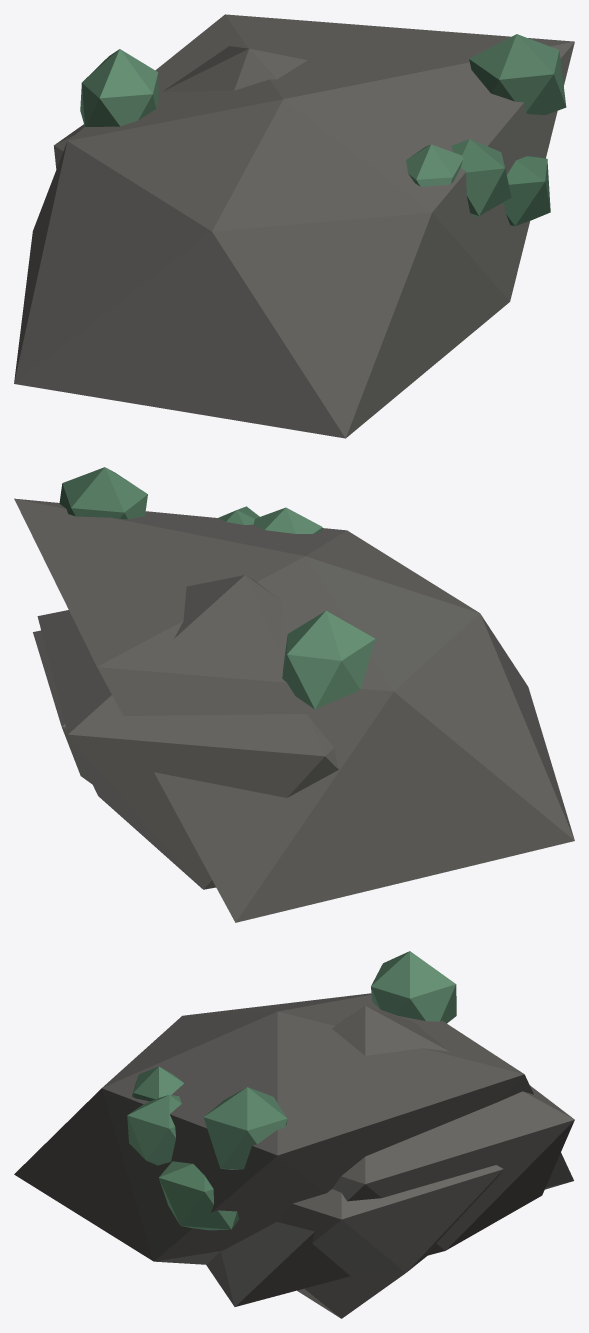
Rendered from adamant_rock.glb.
The picture shows the model from 3 angles, top to bottom: view 1: azimuth 30°, elevation 25°; view 2: azimuth 150°, elevation 25°; view 3: azimuth 270°, elevation 25°; orthographic projection. The views are drawn at different scales.
Parts seen in each view (by area): view 1: adamant_rock; view 2: adamant_rock; view 3: adamant_rock.
Part boxes in pixels (bbox=[...]): adamant_rock: bbox=[14, 14, 574, 438]; adamant_rock: bbox=[14, 467, 574, 922]; adamant_rock: bbox=[14, 951, 574, 1318].
Size of the model in its own units: 1.78 by 0.9768 by 1.67.
1 material, 1 textured.
